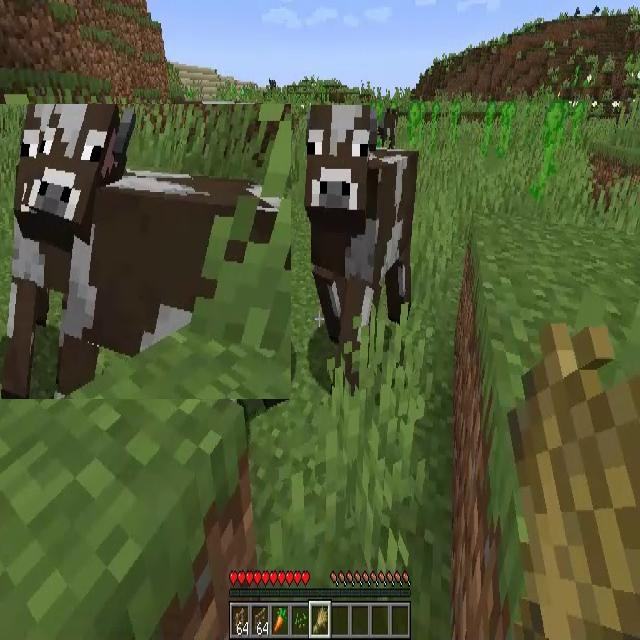cow: (0, 104, 291, 399), (310, 107, 417, 337), (376, 109, 397, 148)
